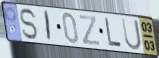0: (61, 11, 80, 45)
I: (44, 10, 52, 43)
L: (104, 17, 123, 49)
S: (18, 7, 39, 41)
U: (120, 17, 143, 52)
Z: (78, 14, 101, 48)
